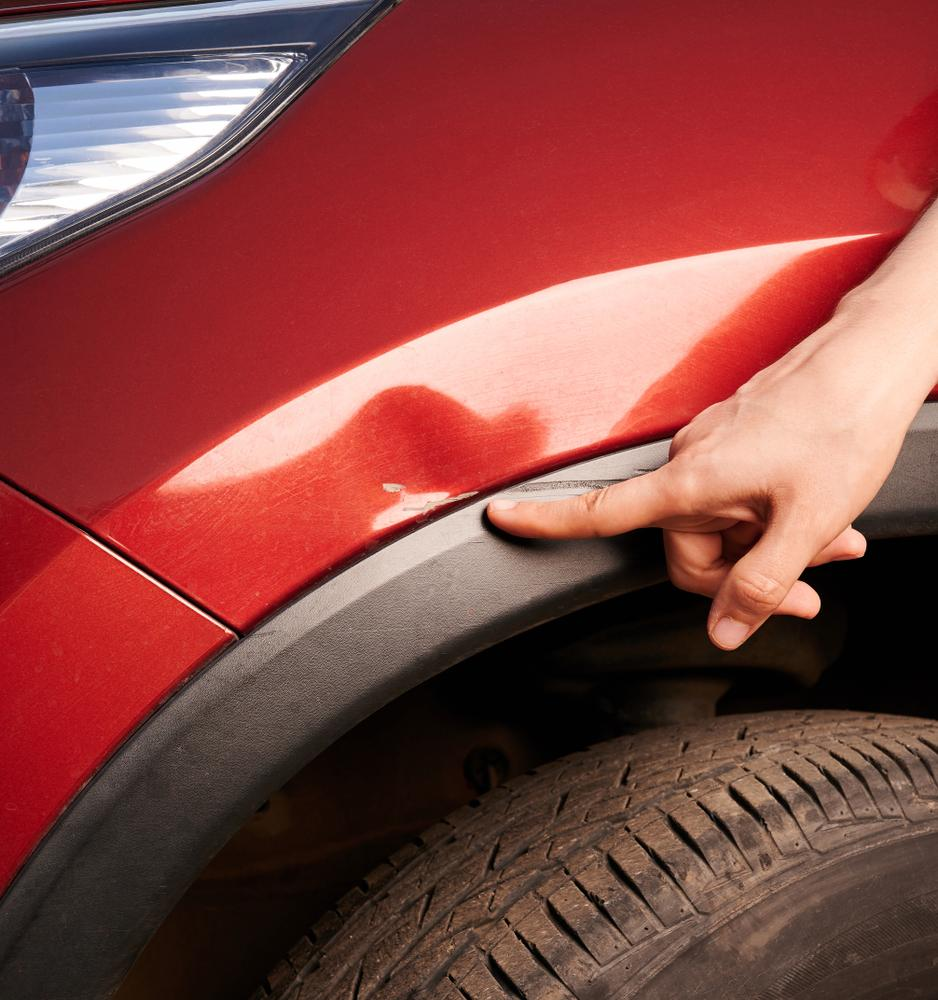dent: (342, 384, 500, 527)
